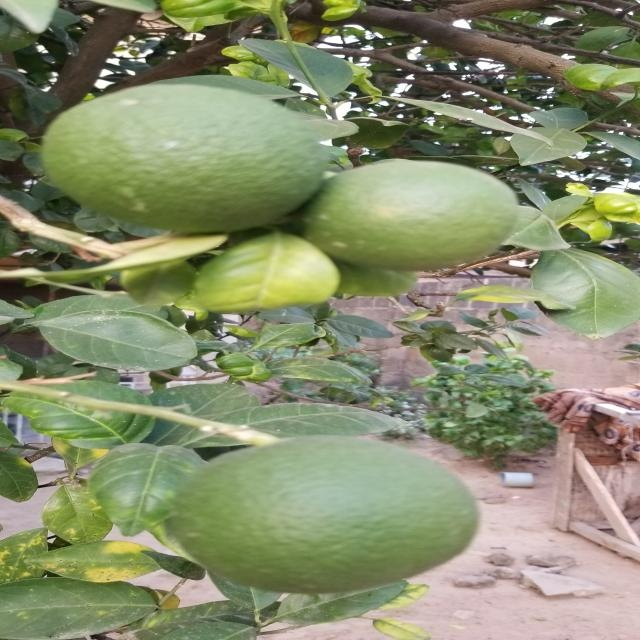agrume: (163, 435, 500, 595), (33, 74, 339, 239), (300, 154, 526, 276)
